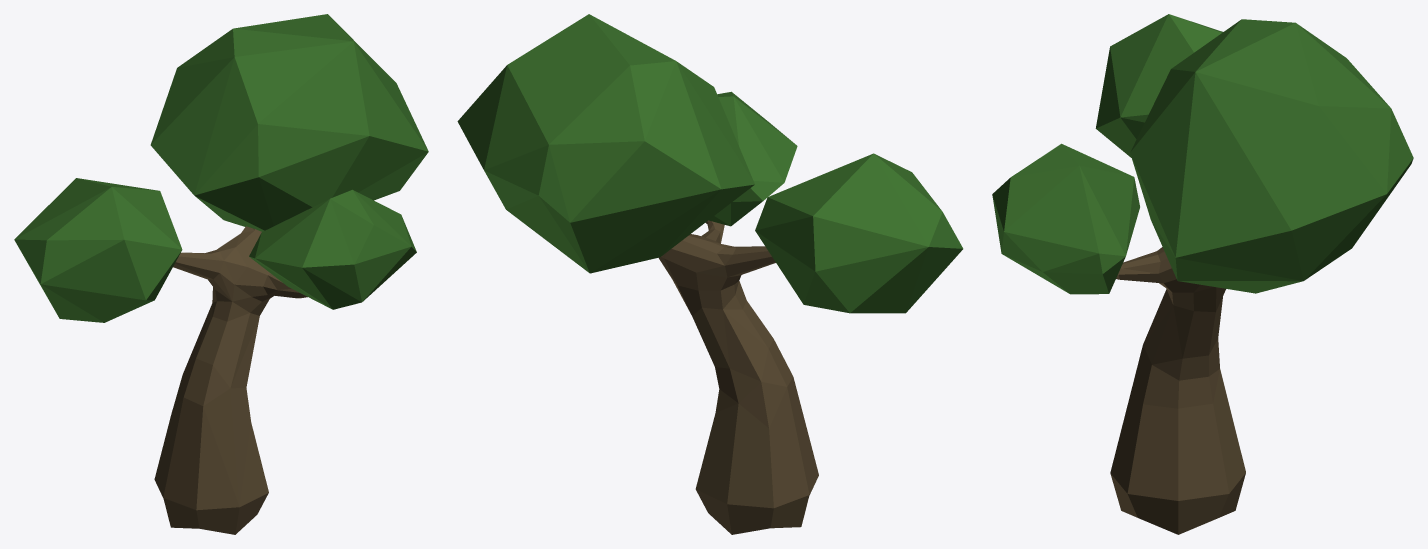
Rendered from tree.fbx.
The picture shows the model from 3 angles, left to right: view 1: azimuth 30°, elevation 25°; view 2: azimuth 150°, elevation 25°; view 3: azimuth 270°, elevation 25°; orthographic projection. The views are drawn at different scales.
Visible parts, largest first — view 1: Foliage, Trunk; view 2: Foliage, Trunk; view 3: Foliage, Trunk.
Part boxes in pixels (x1,y1,x2,y2): Foliage: (14,14,428,322); Trunk: (154,226,307,534); Foliage: (457,14,963,313); Trunk: (658,220,818,534); Foliage: (992,14,1413,294); Trunk: (1110,247,1245,534).
Bounding box in the file's own units: 307 × 318 × 224.
